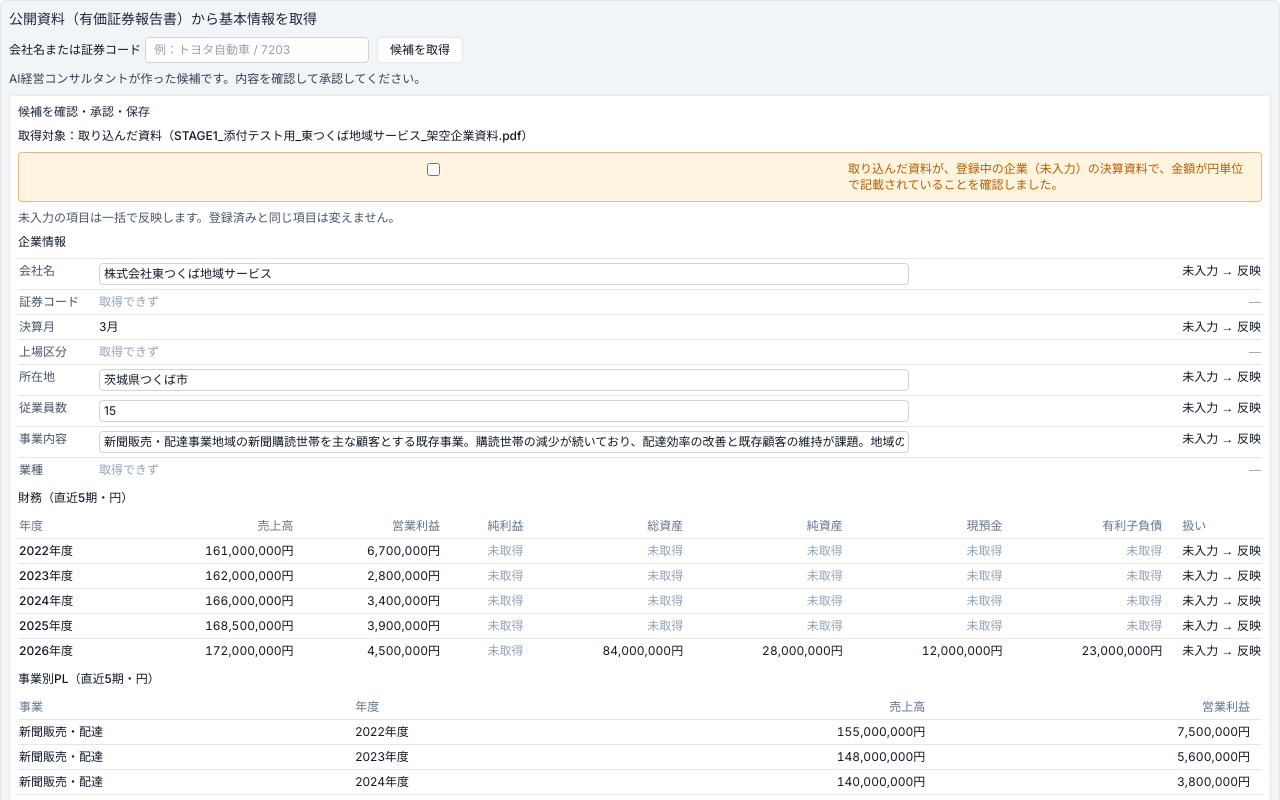
Scenario: 東つくば地域サービスの資料（千円表記）：承認→保存→再読み込み（保存処理はモック） › PDFの原本どおりに円へ換算して反映し、再読み込み後も同じ値が残る
Click the checkbox labelled "取り込んだ資料が、登録中の企業（未入力）の決算資料で、金額が円単位で記載されていることを確認しました。" at (433, 170), box [27,163,840,176]
(page scrolled)
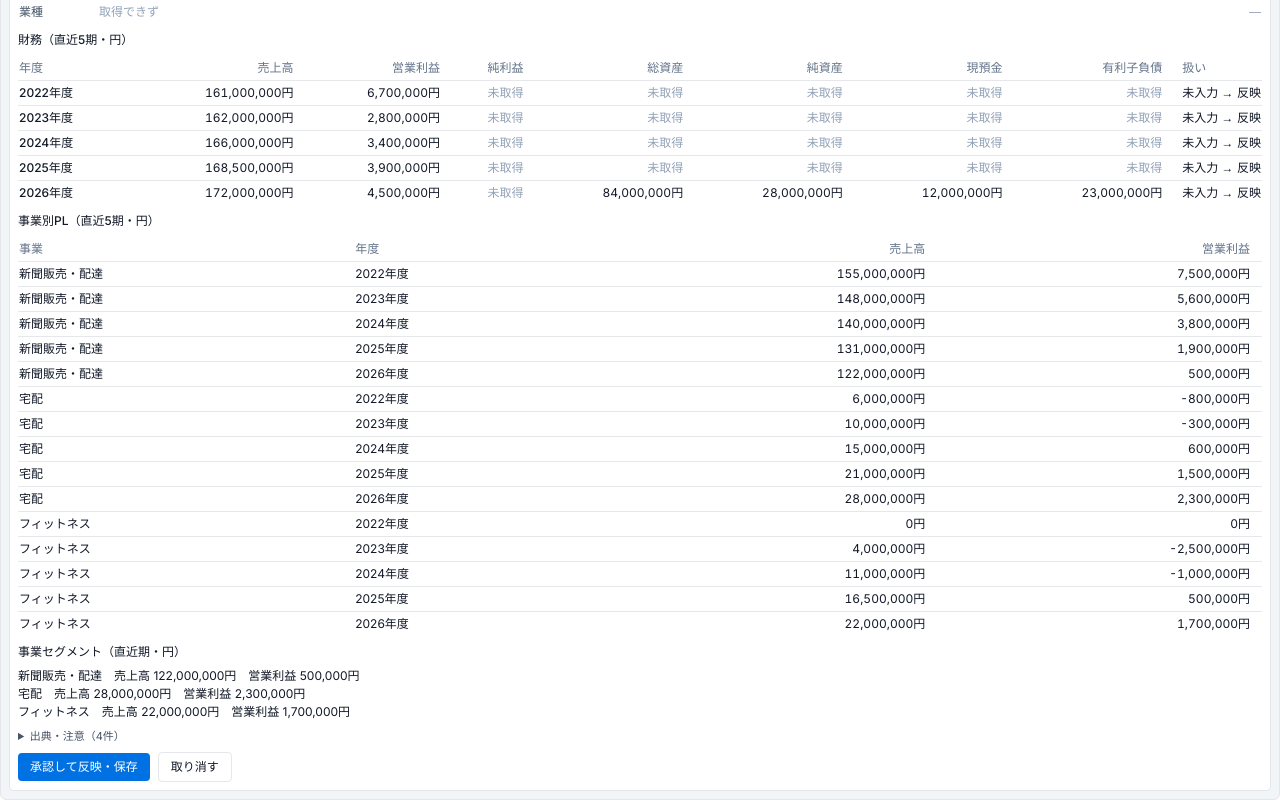
Click the button "承認して反映・保存" at (84, 767), box [18,753,150,781]
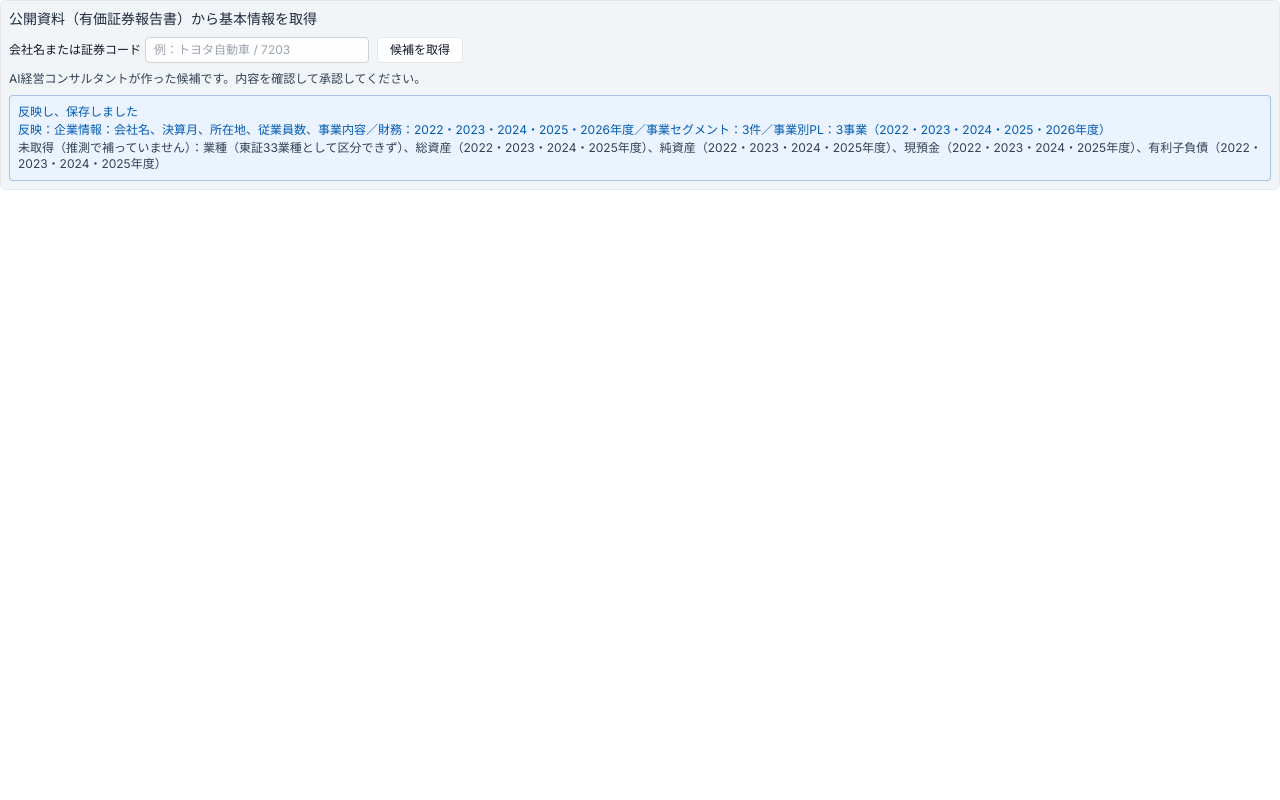
Check: the text "反映し、保存しました" is shown, box [18,104,138,119]
